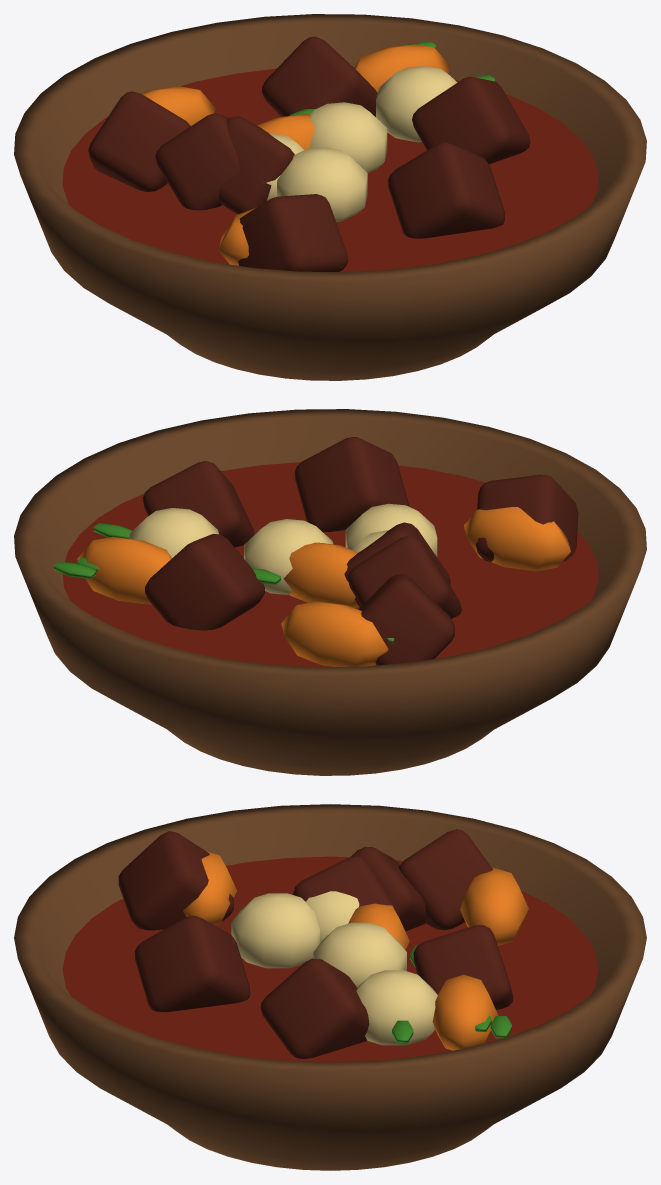
The model's file is wolfsgulasch.glb.
3 views of the same model, one above another, from view 1: azimuth 30°, elevation 25°; view 2: azimuth 150°, elevation 25°; view 3: azimuth 270°, elevation 25° (orthographic).
Parts seen in each view (by area): view 1: schale, inhalt, Cube.004, Cube.001, Cube.002, Cube.005, Cube.006, Cube.003, Sphere.005, Cube, Sphere.006, Sphere.007 (+4 smaller); view 2: schale, inhalt, Cube.006, Cube.004, Cube.005, Sphere.002, Sphere.001, Cube.002, Cube.003, Cube.001, Sphere, Sphere.003 (+4 smaller); view 3: schale, inhalt, Cube.004, Cube.002, Cube.001, Sphere.005, Cube.005, Cube.006, Sphere.007, Sphere.006, Sphere, Sphere.002 (+5 smaller).
Boxes of the visible parts, box(x1,y1,x2,y2) form: schale: box(14, 14, 646, 380); inhalt: box(62, 67, 598, 272); Cube.004: box(388, 142, 504, 238); Cube.001: box(238, 194, 347, 271); Cube.002: box(412, 76, 530, 164); Cube.005: box(88, 91, 190, 191); Cube.006: box(261, 36, 377, 116); Cube.003: box(155, 113, 239, 210); Sphere.005: box(277, 147, 367, 221); Cube: box(219, 116, 294, 214); Sphere.006: box(309, 102, 387, 173); Sphere.007: box(376, 66, 457, 142); schale: box(14, 409, 646, 775); inhalt: box(63, 462, 598, 667); Cube.006: box(145, 534, 264, 630); Cube.004: box(295, 437, 409, 532); Cube.005: box(358, 574, 454, 665); Sphere.002: box(281, 601, 388, 666); Sphere.001: box(463, 507, 570, 571); Cube.002: box(143, 461, 254, 547); Cube.003: box(348, 536, 461, 618); Cube.001: box(475, 474, 578, 561); Sphere: box(77, 536, 171, 604); Sphere.003: box(283, 542, 358, 607); schale: box(14, 804, 646, 1170); inhalt: box(62, 856, 598, 1062); Cube.004: box(135, 915, 250, 1012); Cube.002: box(260, 958, 369, 1058); Cube.001: box(118, 831, 233, 930); Sphere.005: box(231, 893, 319, 968); Cube.005: box(399, 829, 492, 930); Cube.006: box(413, 925, 513, 1009); Sphere.007: box(356, 970, 437, 1045); Sphere.006: box(313, 922, 406, 987); Sphere: box(432, 974, 498, 1050); Sphere.002: box(460, 868, 528, 945).
Bounding box in the file's own units: 0.18 × 0.0635 × 0.18.
